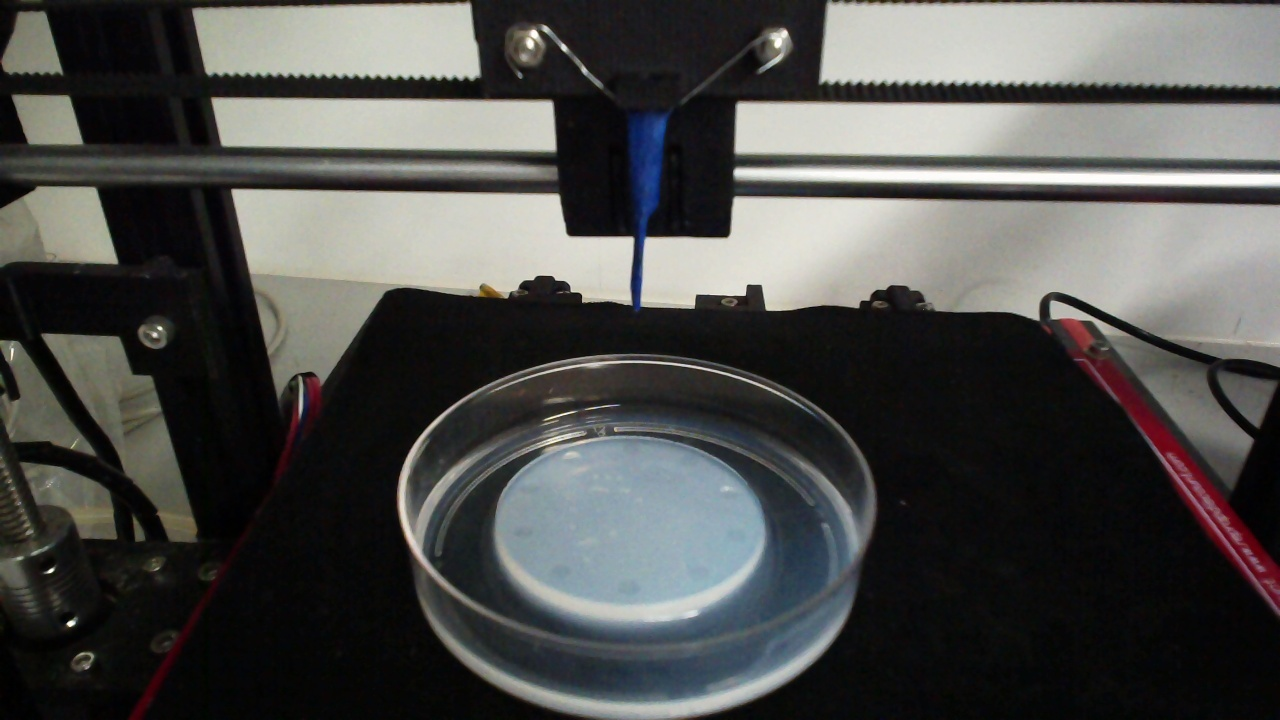groove: (616, 579, 642, 597), (682, 564, 709, 581), (723, 526, 748, 544), (619, 440, 642, 458), (509, 523, 533, 540), (546, 564, 572, 578), (717, 485, 741, 500), (560, 449, 582, 465), (677, 453, 699, 469), (517, 481, 539, 496)
needle: (632, 110, 669, 312)
